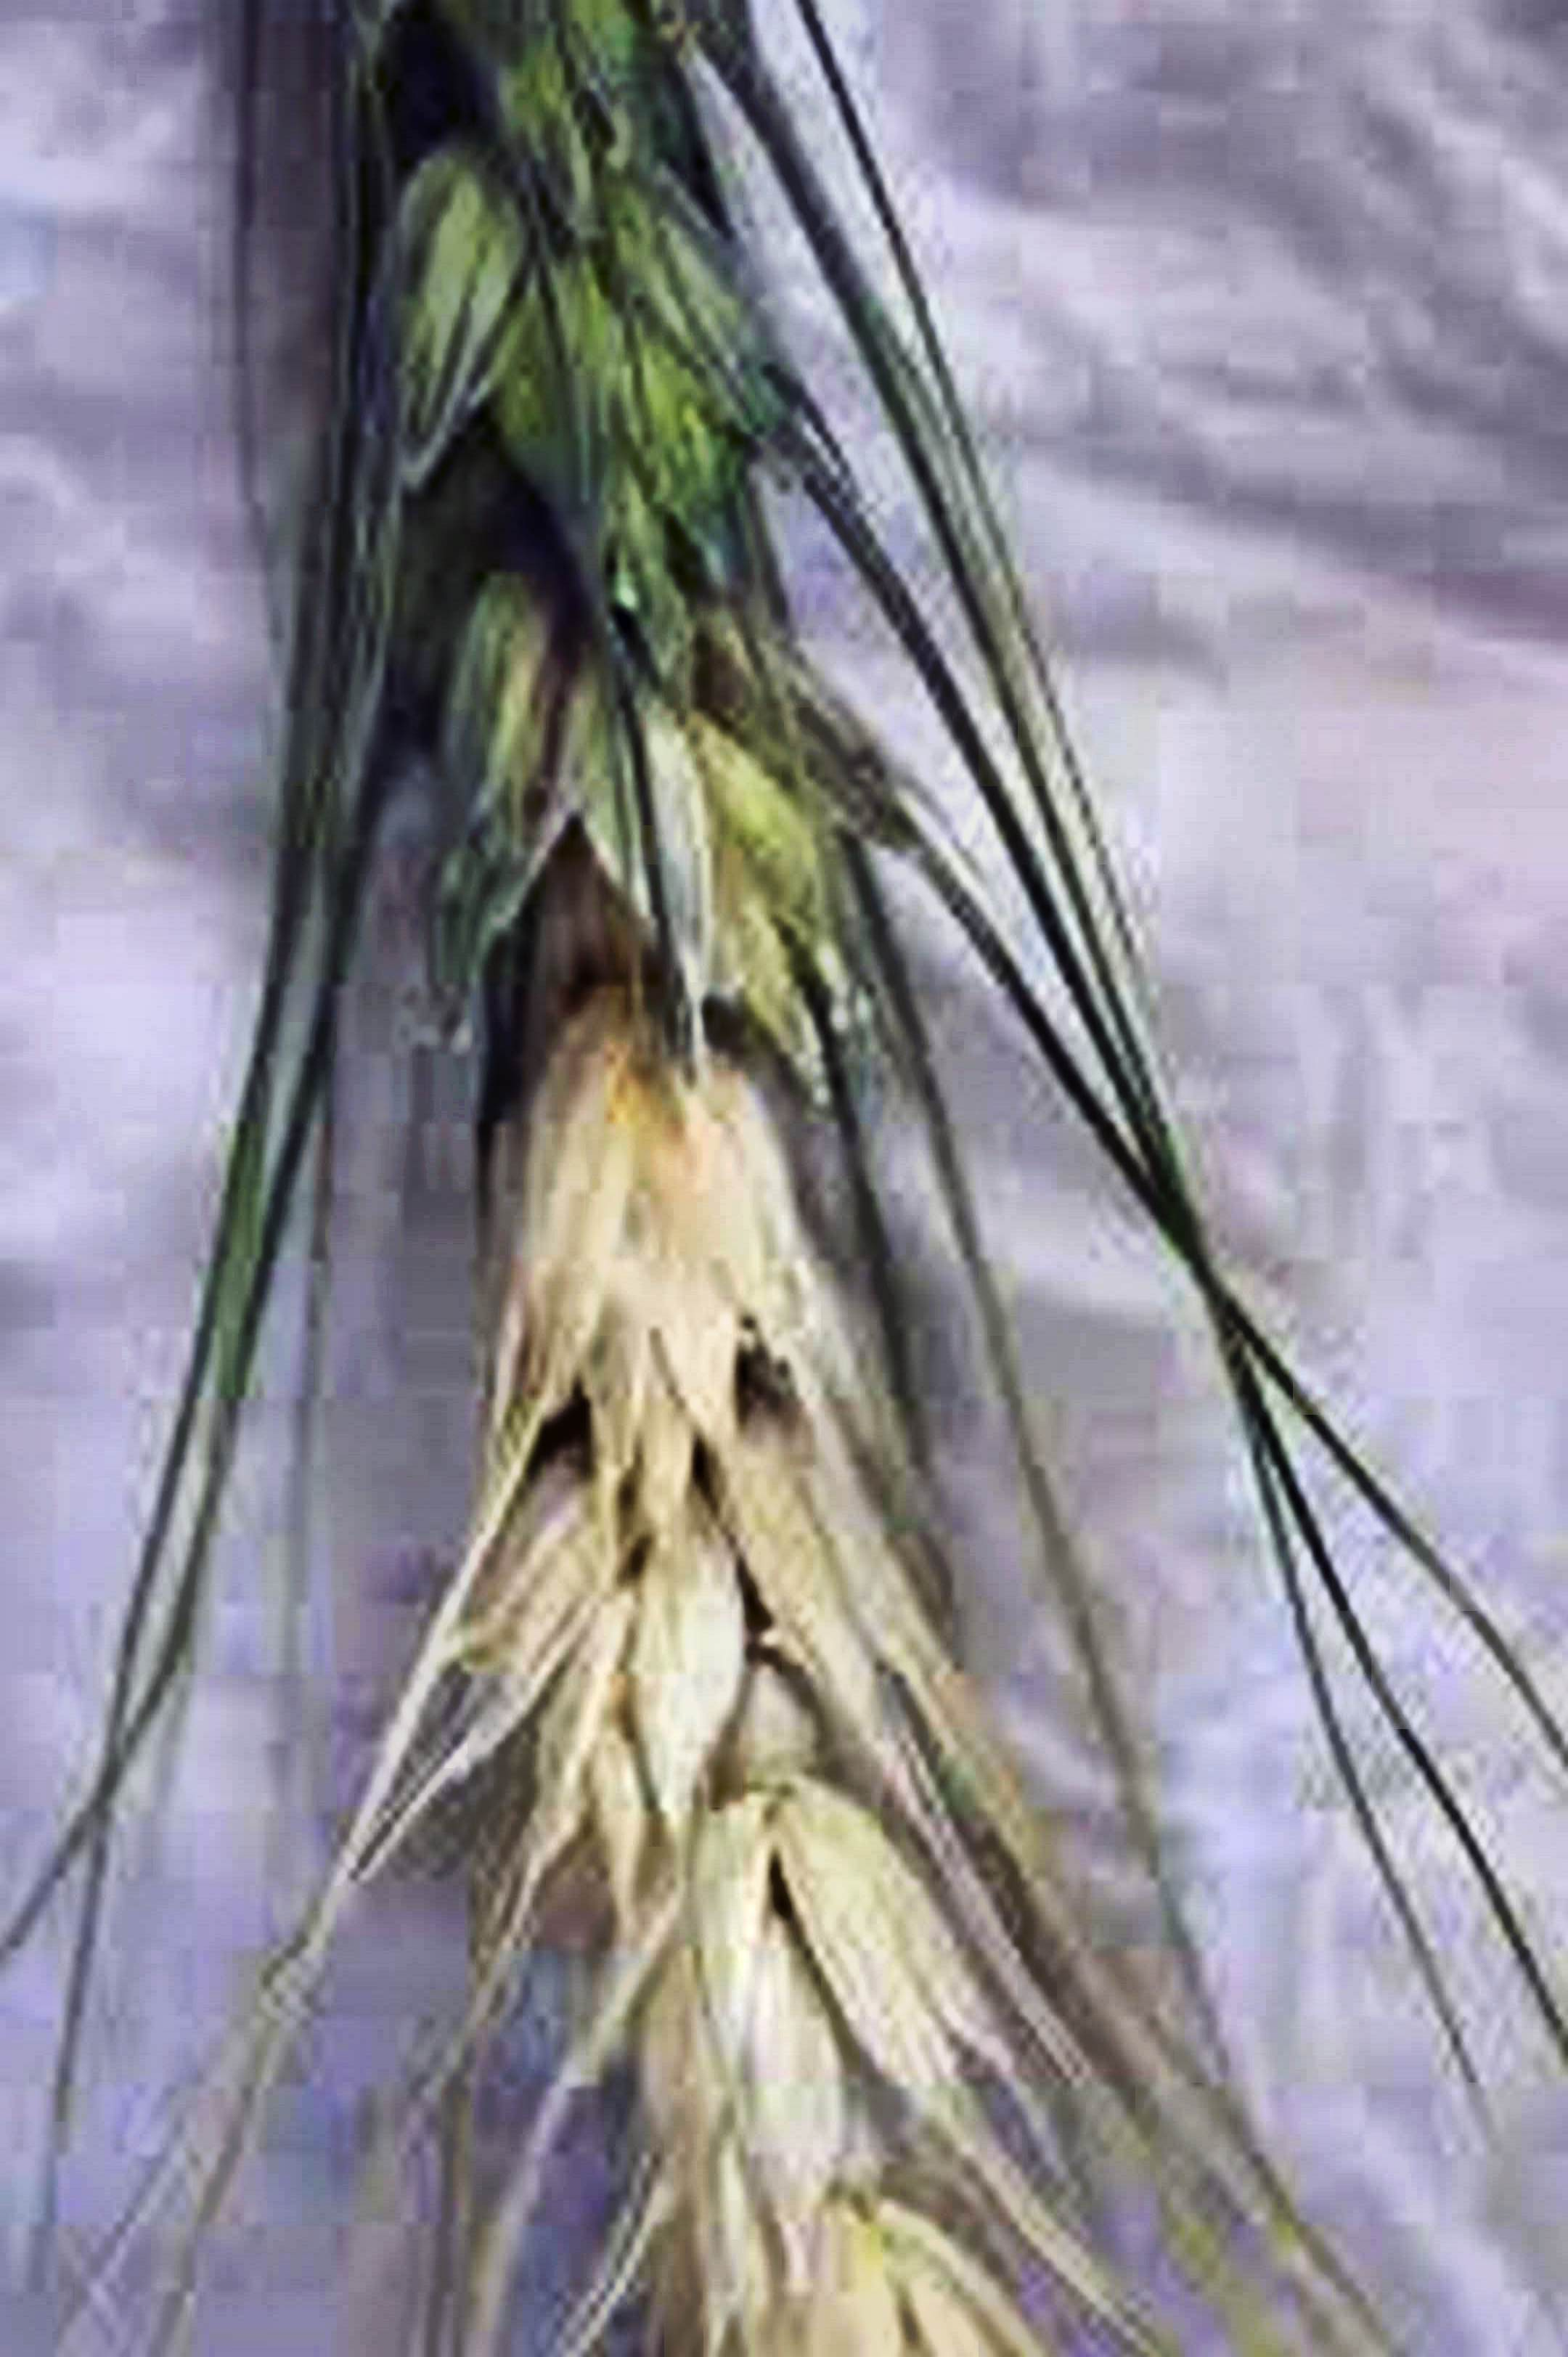Wheat scab: (285, 63, 1176, 2357)
